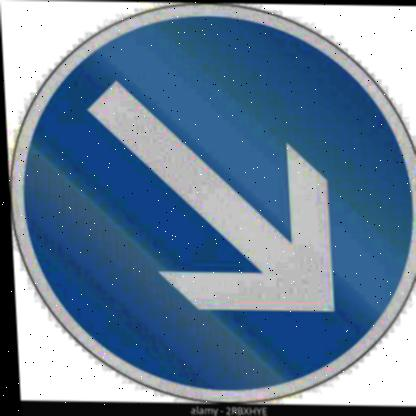Keep right: (0, 0, 416, 400)
